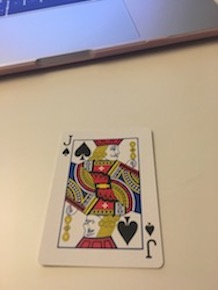JackOfSpades: (38, 124, 169, 272)
